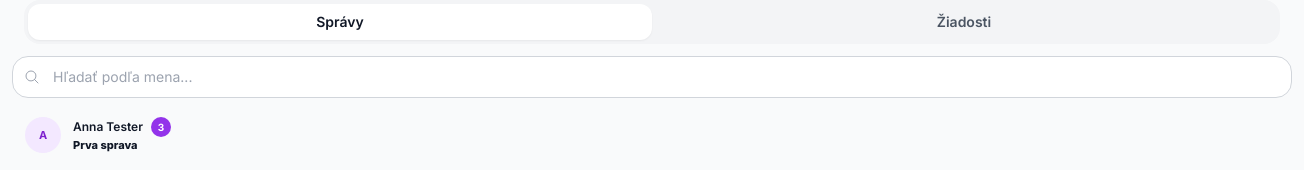
ConversationsList › searches conversations by name after a short debounce
Expected: the text "Prva sprava" is shown, [73,138,138,152]
In the field labelled "Hľadať podľa mena...": coordinates (652, 77) [12,56,1292,98], type "  Anna   Novak "
Wait 300 ms
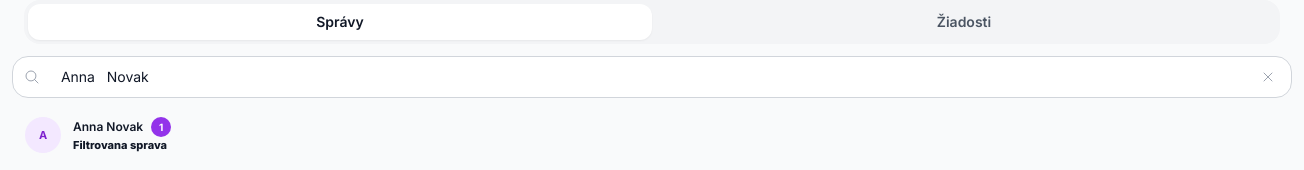
Expected: the text "Filtrovana sprava" is shown, [73,138,167,152]
